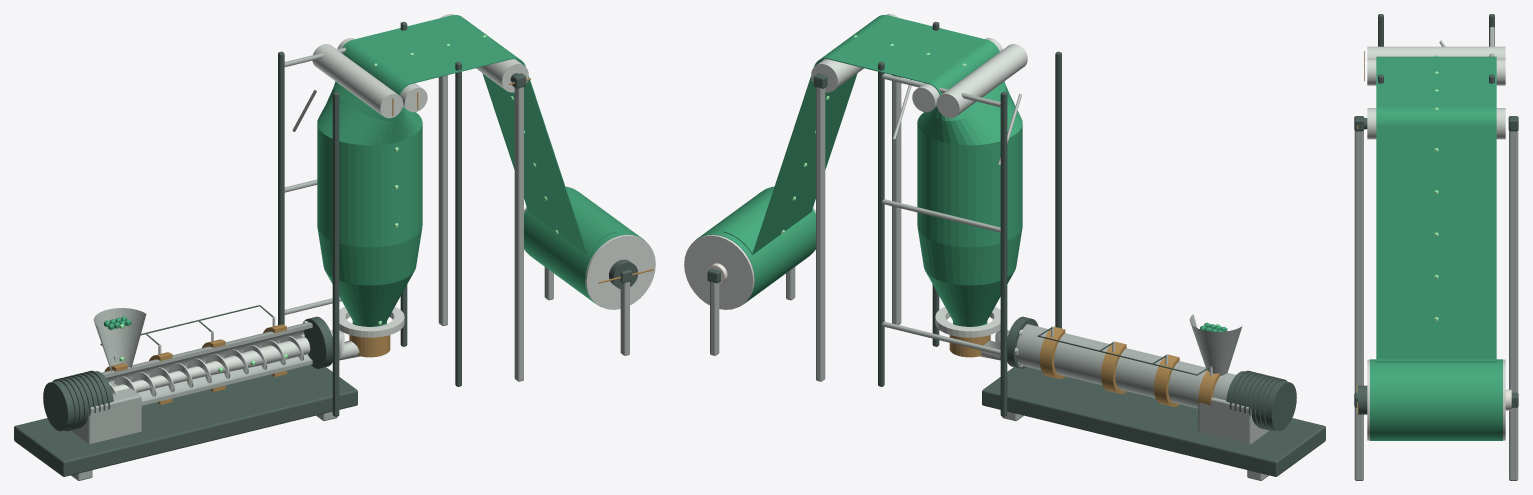
The model's file is blownfilm-motion.glb.
The picture shows the model from 3 angles, left to right: view 1: azimuth 30°, elevation 25°; view 2: azimuth 150°, elevation 25°; view 3: azimuth 270°, elevation 25°; orthographic projection.
Parts seen in each view (by area): view 1: FilmBubble, DriveBed, FlattenedFilmWeb, BarrelCutaway, WoundFilm, Winder_drum, TowerGuideRoll_upright, NipDrum, TowerPost, TowerGuideRoll_upright.001, GearboxPedestal, TowerPost.002 (+10 smaller); view 2: FilmBubble, FlattenedFilmWeb, DriveBed, BarrelCutaway, WoundFilm, Winder_drum, TowerGuideRoll_upright.001, NipDrum, TowerPost.001, TowerGuideRoll_upright, DriveMotor, TowerPost.003 (+12 smaller); view 3: FlattenedFilmWeb, WoundFilm, TowerGuideRoll_upright.001, TowerGuideRoll_upright, NipDrum, Winder_upright.001, Winder_upright, TowerGuideRoll_drum, NipDrum.001, Winder_drum, Winder_hub, TowerPost.
Part boxes in pixels (x1,y1,x2,y2): FilmBubble: [317, 81, 422, 326]; DriveBed: [14, 364, 357, 476]; FlattenedFilmWeb: [342, 15, 616, 254]; BarrelCutaway: [101, 322, 312, 405]; WoundFilm: [524, 187, 648, 306]; Winder_drum: [524, 186, 655, 309]; TowerGuideRoll_upright: [514, 87, 523, 381]; NipDrum: [312, 44, 403, 118]; TowerPost: [332, 91, 339, 416]; TowerGuideRoll_upright.001: [438, 75, 447, 325]; GearboxPedestal: [70, 380, 141, 443]; TowerPost.002: [455, 61, 461, 386]; FilmBubble: [917, 81, 1022, 326]; FlattenedFilmWeb: [723, 15, 999, 254]; DriveBed: [982, 367, 1325, 476]; BarrelCutaway: [1016, 324, 1235, 408]; WoundFilm: [691, 187, 815, 306]; Winder_drum: [684, 186, 815, 309]; TowerGuideRoll_upright.001: [816, 87, 825, 381]; NipDrum: [936, 44, 1027, 118]; TowerPost.001: [1000, 91, 1007, 416]; TowerGuideRoll_upright: [892, 75, 901, 324]; DriveMotor: [1226, 371, 1296, 431]; TowerPost.003: [878, 61, 884, 386]; FlattenedFilmWeb: [1376, 56, 1496, 362]; WoundFilm: [1370, 359, 1502, 440]; TowerGuideRoll_upright.001: [1509, 131, 1518, 392]; TowerGuideRoll_upright: [1354, 131, 1363, 392]; NipDrum: [1367, 46, 1505, 58]; Winder_upright.001: [1509, 407, 1518, 480]; Winder_upright: [1354, 407, 1363, 480]; TowerGuideRoll_drum: [1367, 108, 1505, 139]; NipDrum.001: [1367, 58, 1505, 85]; Winder_drum: [1367, 359, 1505, 440]; Winder_hub: [1358, 385, 1367, 414]; TowerPost: [1378, 14, 1383, 46].
Size of the model in its own units: 10.48 by 5.69 by 2.51.
